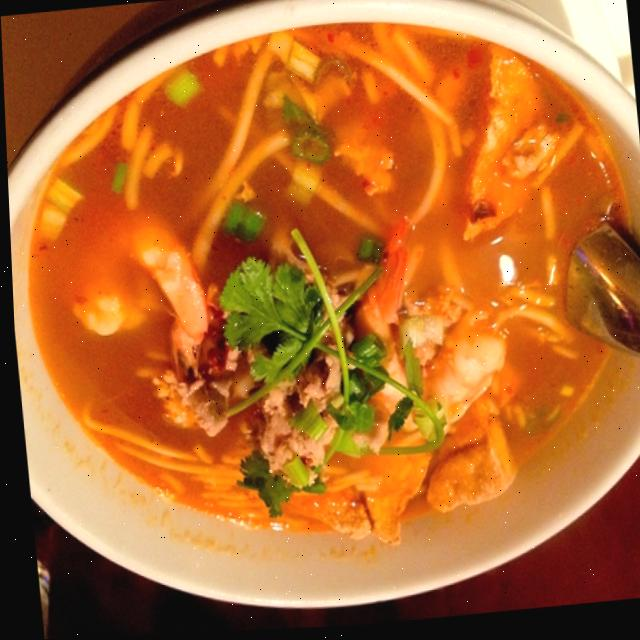汤锅炖物: (16, 0, 640, 593)
